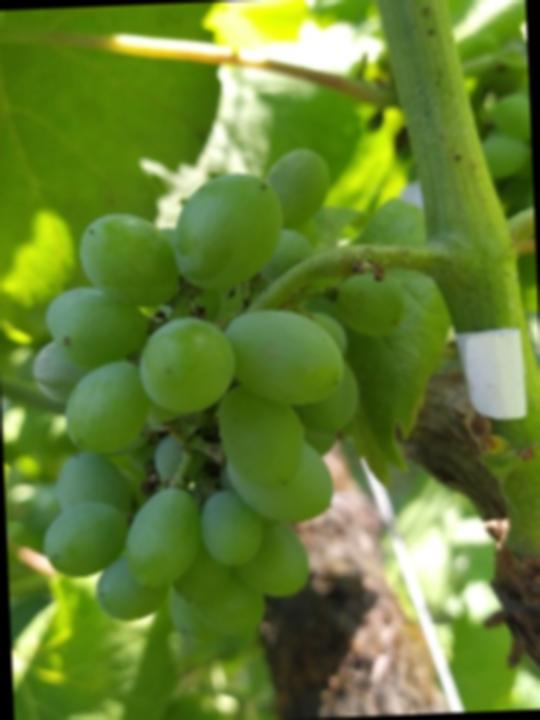grape: (23, 138, 418, 656)
